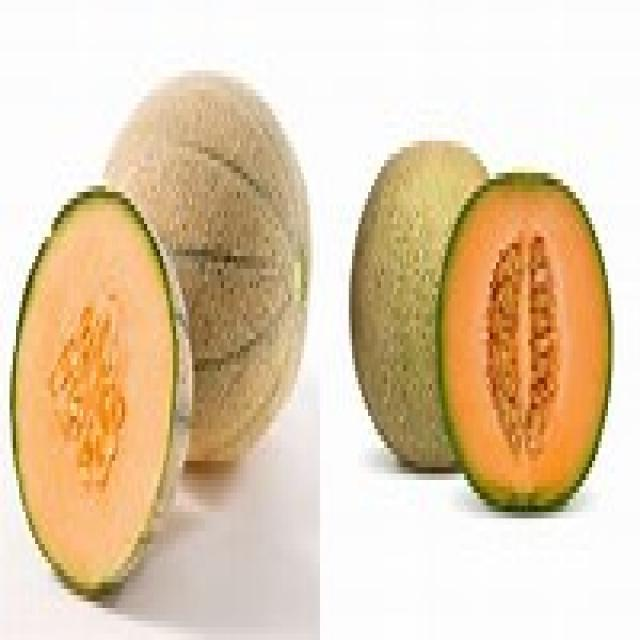Hami Melon: (103, 72, 310, 462), (9, 187, 198, 605), (435, 169, 615, 508), (347, 136, 526, 471)
